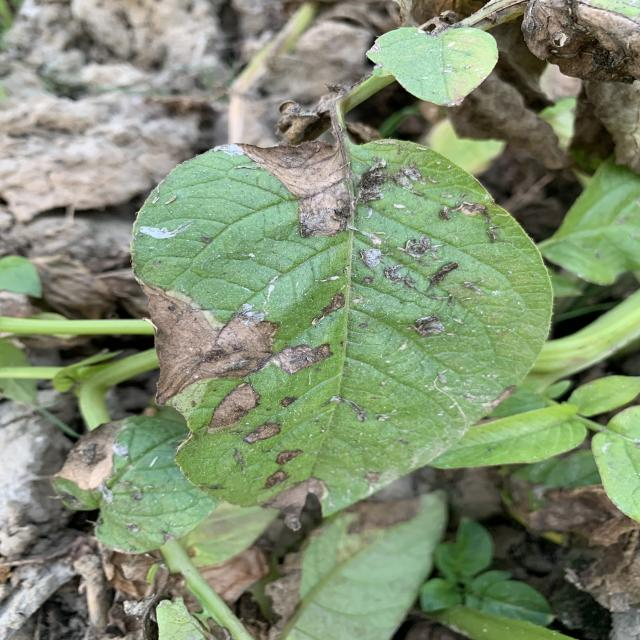lateblight: (142, 285, 278, 405), (238, 141, 353, 238), (263, 478, 328, 531), (355, 158, 425, 204), (208, 382, 260, 429), (270, 344, 333, 375), (440, 195, 492, 224), (407, 315, 457, 338), (427, 261, 458, 291), (243, 422, 280, 444), (483, 385, 515, 409), (385, 264, 415, 288), (487, 225, 502, 242), (398, 341, 408, 350)
